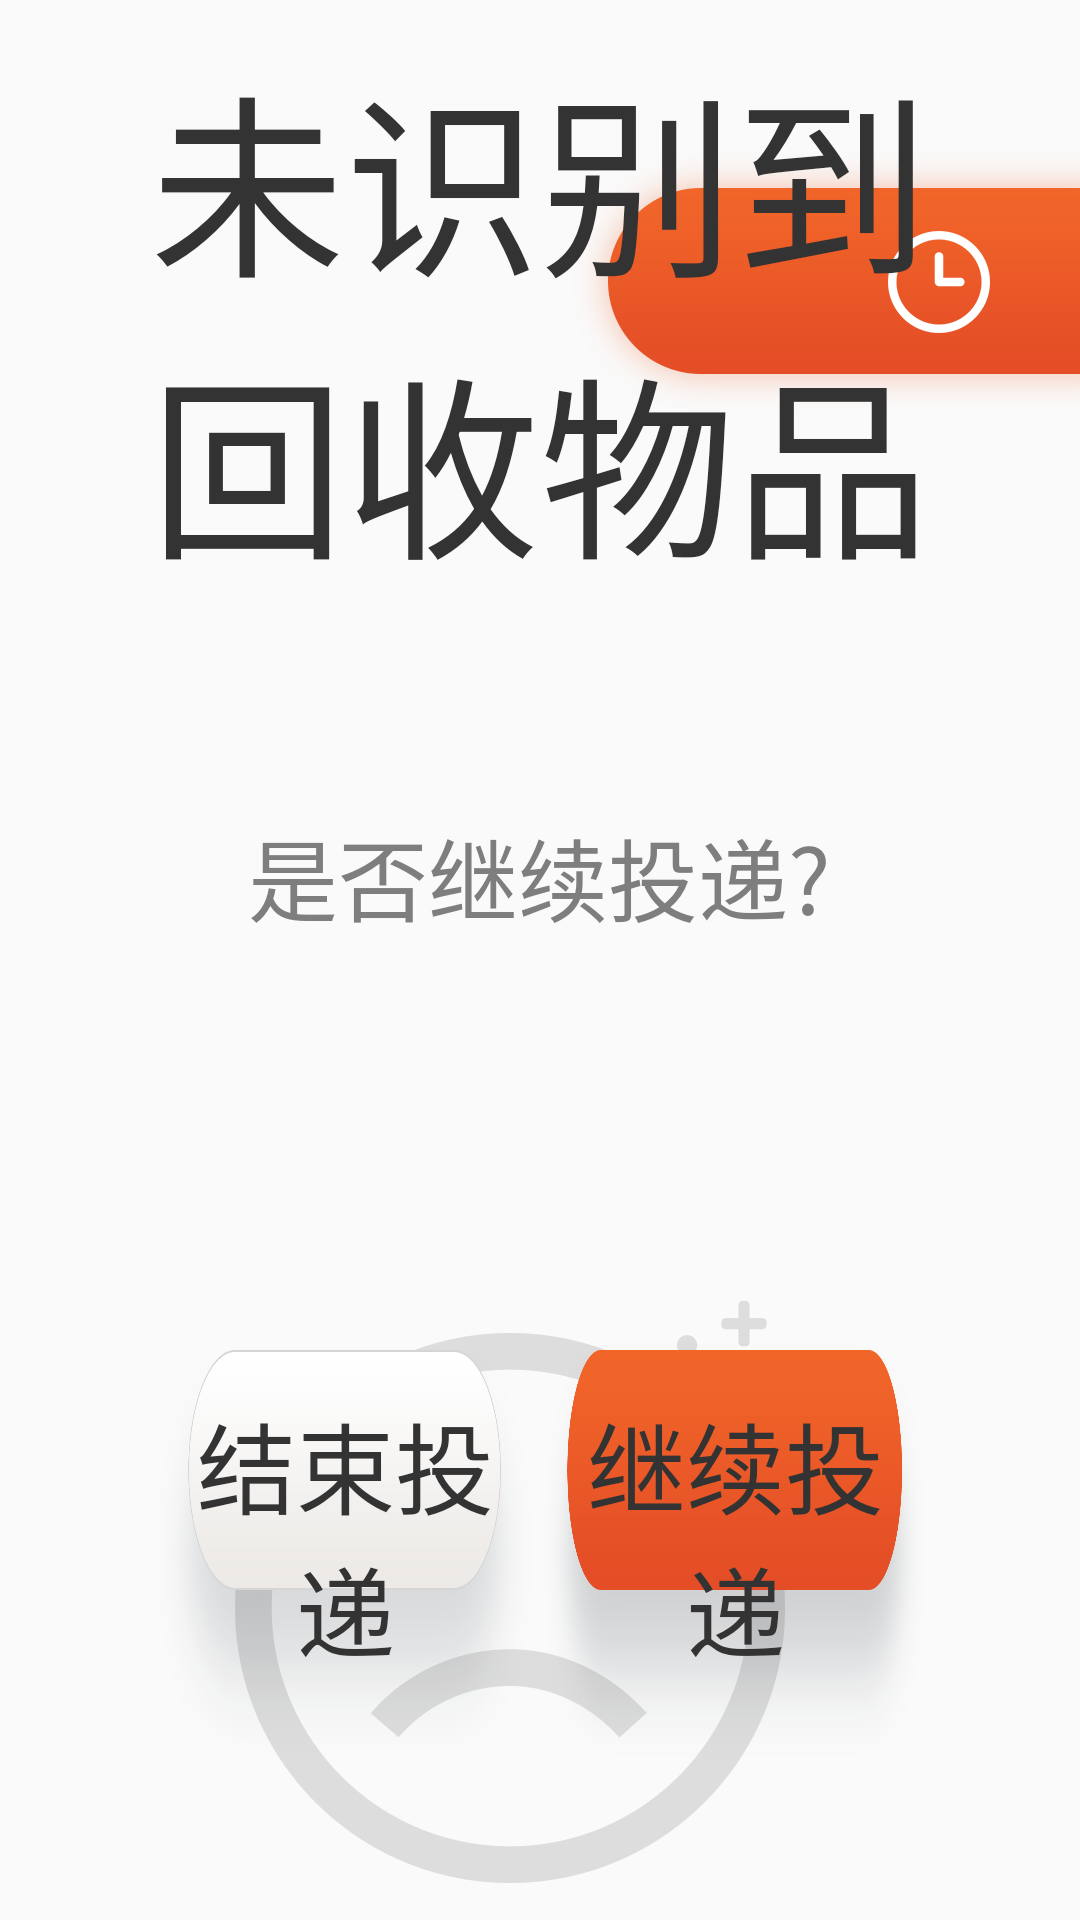

Where to tap for icons on this 1080px×1920px app screen, as (x,y):
timer whrite: (939,282)
